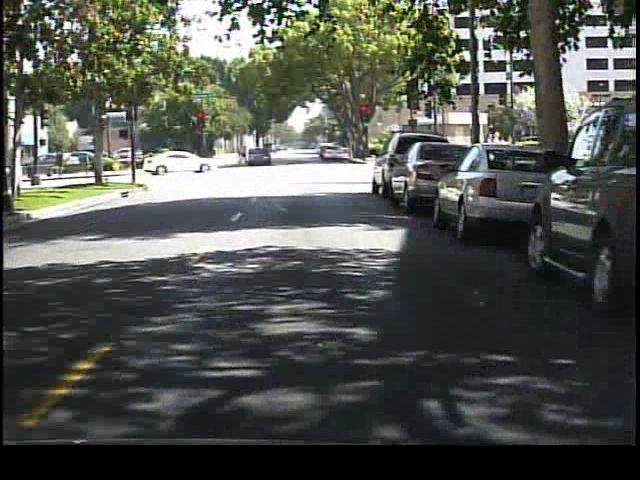person: (235, 143, 249, 169)
